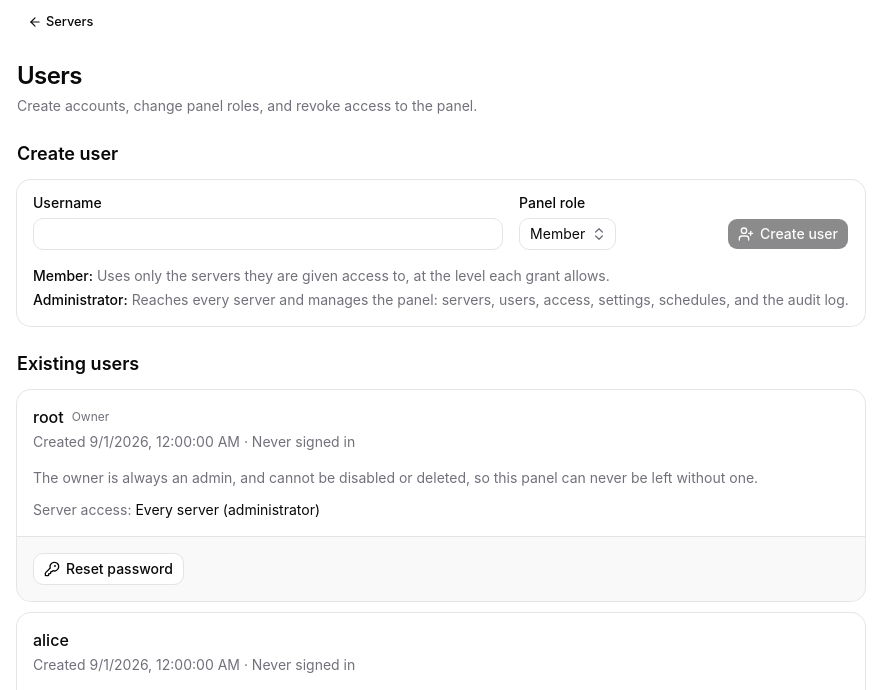
Test case: after creating a user › says an administrator needs no server access, with no links
The image size is (883, 690).
Expected: the text "Server access:" is shown, [33,501,131,518]
Type "erin" into the field labelled "Username". click: (268, 234)
box: [33,218,503,250]
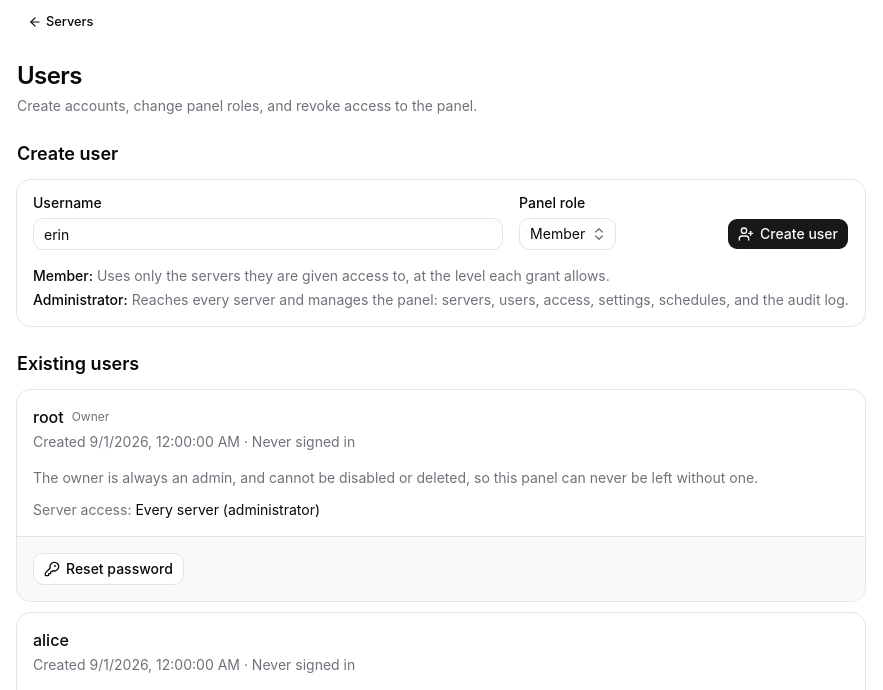
Press the mouse on the button with id "new-role" at (568, 234), box [519,218,616,250]
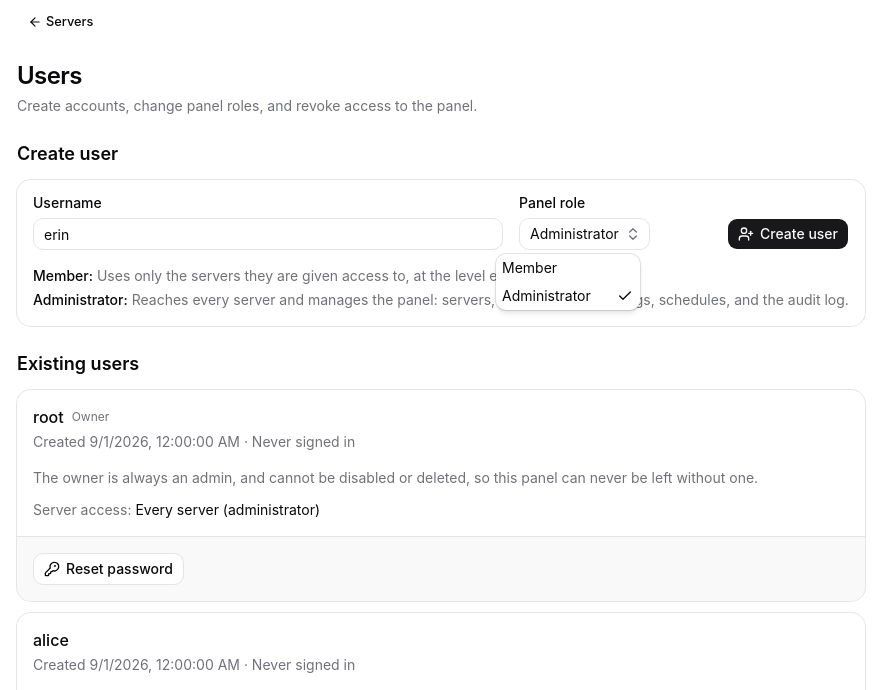
Click the button "Create user". click: (788, 234)
box: [727,218,849,250]
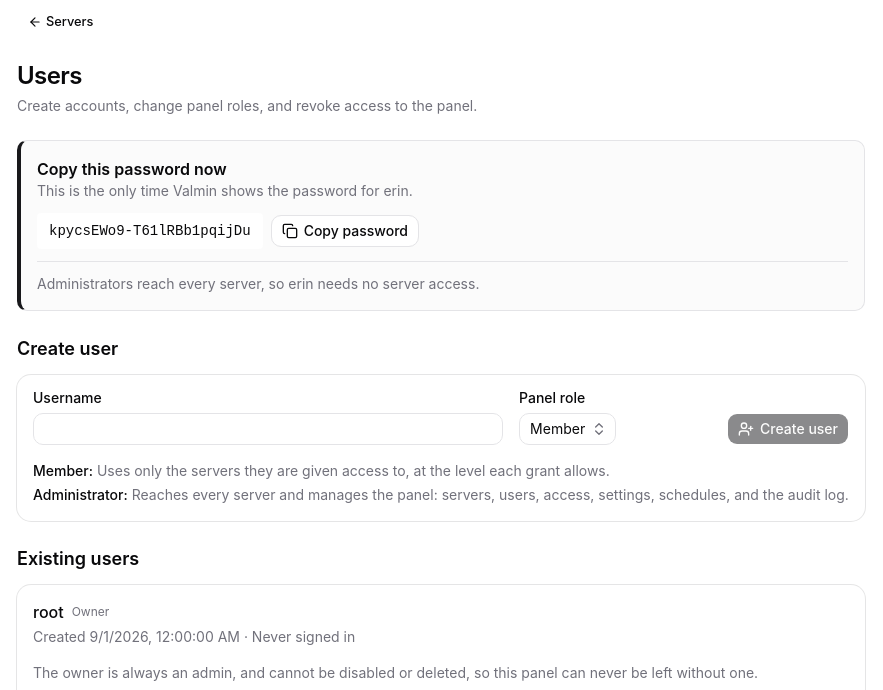
Expected: the text "Copy this password now" shows "Administrators reach every server, so erin needs no server access.", [37,275,479,292]
